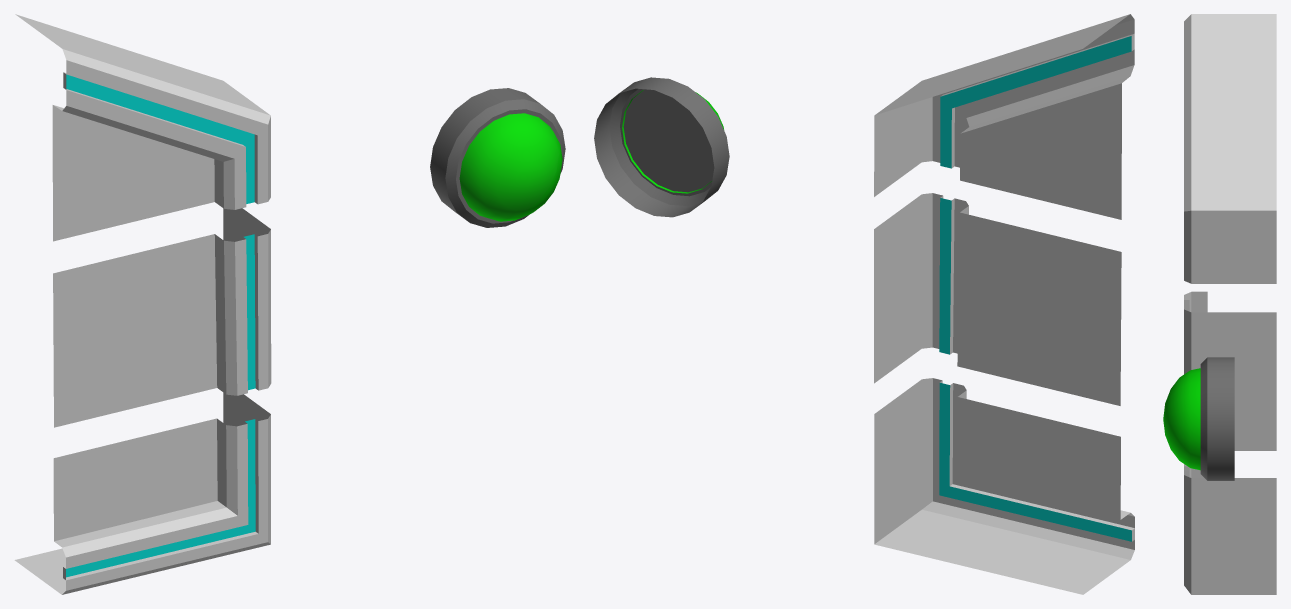
The model's file is door_lamp.fbx.
The picture shows the model from 3 angles, left to right: view 1: azimuth 30°, elevation 25°; view 2: azimuth 150°, elevation 25°; view 3: azimuth 270°, elevation 25°; orthographic projection. The views are drawn at different scales.
Parts seen in each view (by area): view 1: pPipe6, pPipe5, pPipe7, pSphere31; view 2: pPipe7, pPipe6, pPipe5, pSphere31; view 3: pPipe5, pPipe7, pPipe6, pSphere31.
Boxes of the visible parts, bbox=[...] form: pPipe6: bbox=[53, 208, 271, 427]; pPipe5: bbox=[15, 14, 270, 241]; pPipe7: bbox=[14, 392, 270, 594]; pSphere31: bbox=[430, 88, 565, 227]; pPipe7: bbox=[874, 378, 1134, 594]; pPipe6: bbox=[874, 193, 1121, 405]; pPipe5: bbox=[874, 14, 1134, 219]; pSphere31: bbox=[594, 77, 729, 217]; pPipe5: bbox=[1184, 14, 1276, 283]; pPipe7: bbox=[1184, 464, 1276, 594]; pPipe6: bbox=[1184, 291, 1276, 450]; pSphere31: bbox=[1163, 357, 1234, 480].
Bounding box in the file's own units: 1.45 × 1.48 × 0.3102.
